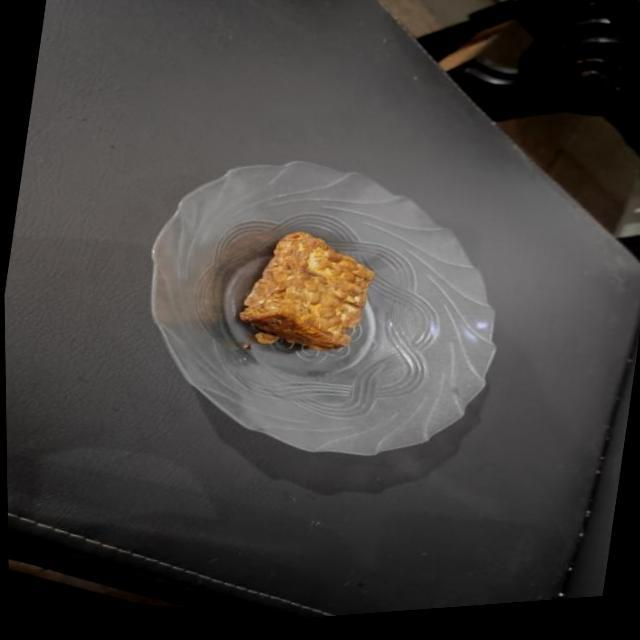tempe_goreng: (240, 232, 374, 350)
